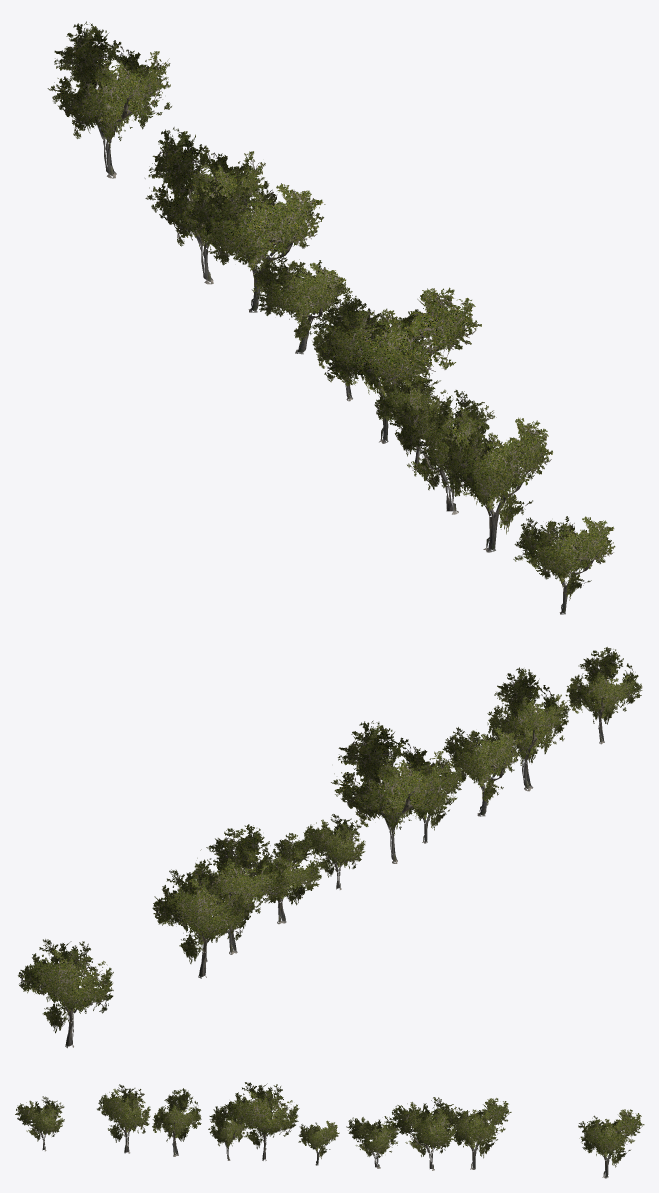
The picture shows the model from 3 angles, top to bottom: view 1: azimuth 30°, elevation 25°; view 2: azimuth 150°, elevation 25°; view 3: azimuth 270°, elevation 25°; orthographic projection. The views are drawn at different scales.
Parts seen in each view (by area): view 1: Island tree branch clusters, Island tree bark; view 2: Island tree branch clusters, Island tree bark; view 3: Island tree branch clusters, Island tree bark.
Part boxes in pixels (left/top/right/bottom): Island tree branch clusters: left=47, top=21, right=615, bottom=600; Island tree bark: left=83, top=95, right=597, bottom=614; Island tree branch clusters: left=18, top=647, right=642, bottom=1033; Island tree bark: left=51, top=696, right=618, bottom=1048; Island tree branch clusters: left=15, top=1082, right=644, bottom=1167; Island tree bark: left=28, top=1118, right=626, bottom=1178.
Bounding box in the file's own units: 23.09 × 16.32 × 119.
2 materials, 2 textured.
